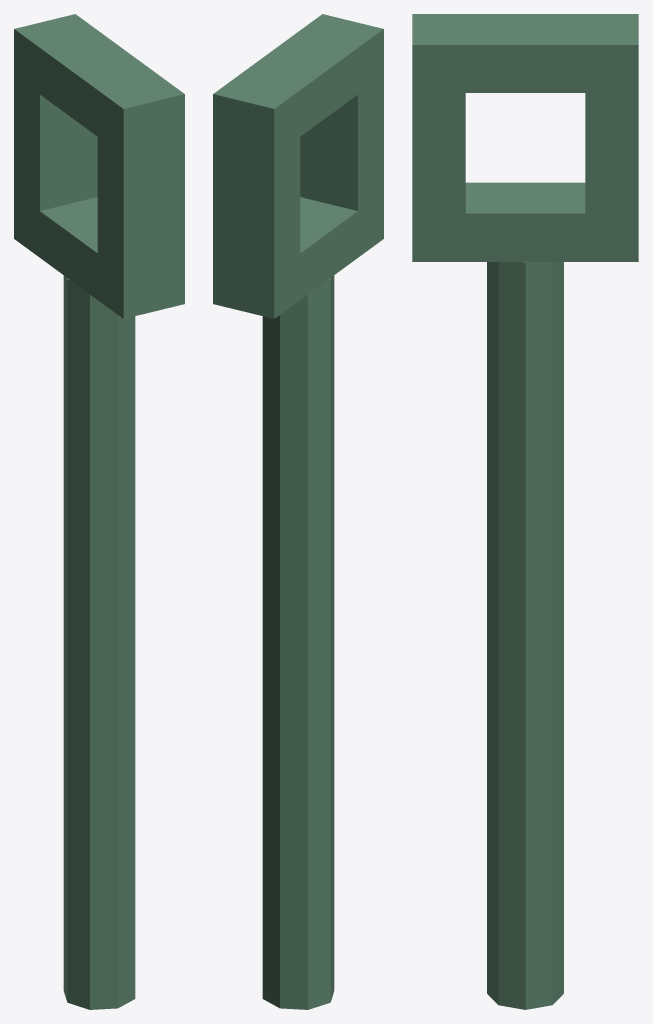
The model's file is rope_post_03.glb.
The picture shows the model from 3 angles, left to right: view 1: azimuth 30°, elevation 25°; view 2: azimuth 150°, elevation 25°; view 3: azimuth 270°, elevation 25°; orthographic projection. The views are drawn at different scales.
Parts seen in each view (by area): view 1: Rope_post_03; view 2: Rope_post_03; view 3: Rope_post_03.
Boxes of the visible parts, <box> form: Rope_post_03: <box>14,14,184,1009</box>; Rope_post_03: <box>213,14,383,1009</box>; Rope_post_03: <box>412,14,638,1009</box>.
Size of the model in its own units: 0.0577 by 0.8 by 0.17.
